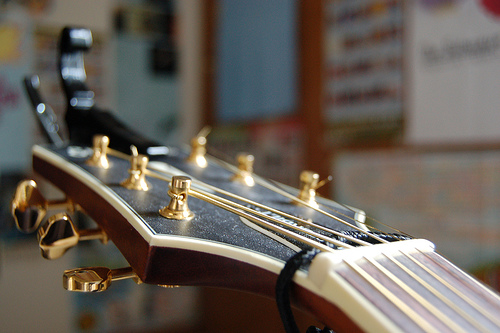guitar: (12, 135, 500, 333)
